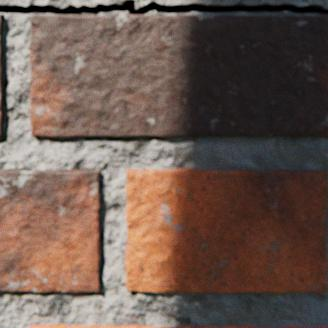brick: (30, 15, 327, 136), (125, 168, 326, 292), (0, 168, 100, 291), (30, 323, 327, 327), (0, 14, 4, 135)
crack: (0, 0, 327, 15)
